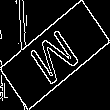M_SE: (25, 21, 85, 89)
